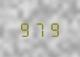nine: (18, 20, 31, 37), (47, 20, 60, 37)
seven: (33, 20, 46, 37)
